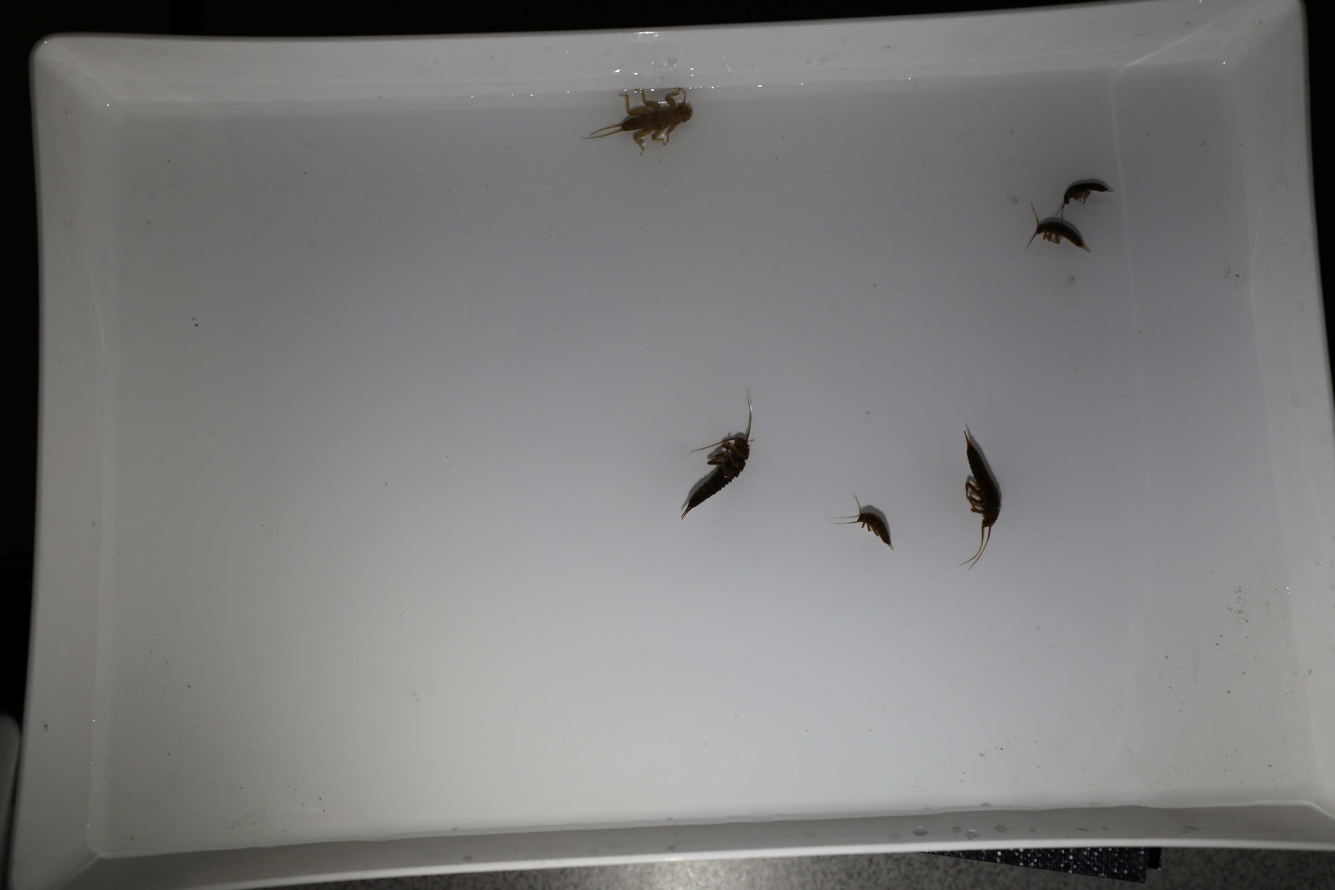Stonefly: (675, 383, 755, 525), (581, 86, 695, 162), (958, 431, 1002, 566), (834, 495, 898, 552), (1020, 205, 1091, 254), (1058, 177, 1110, 213)
